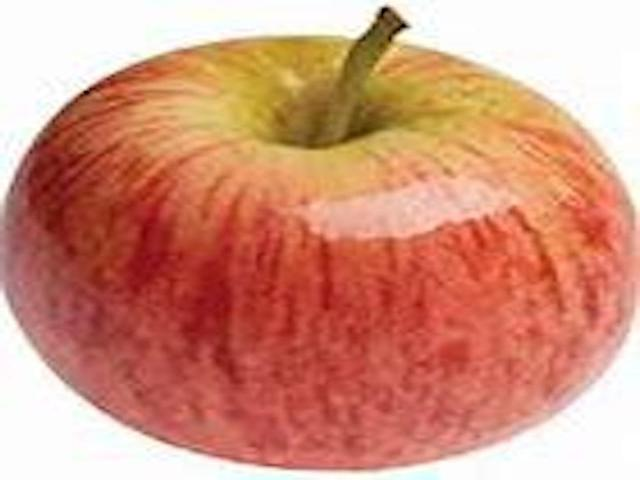apple: (0, 0, 639, 475)
